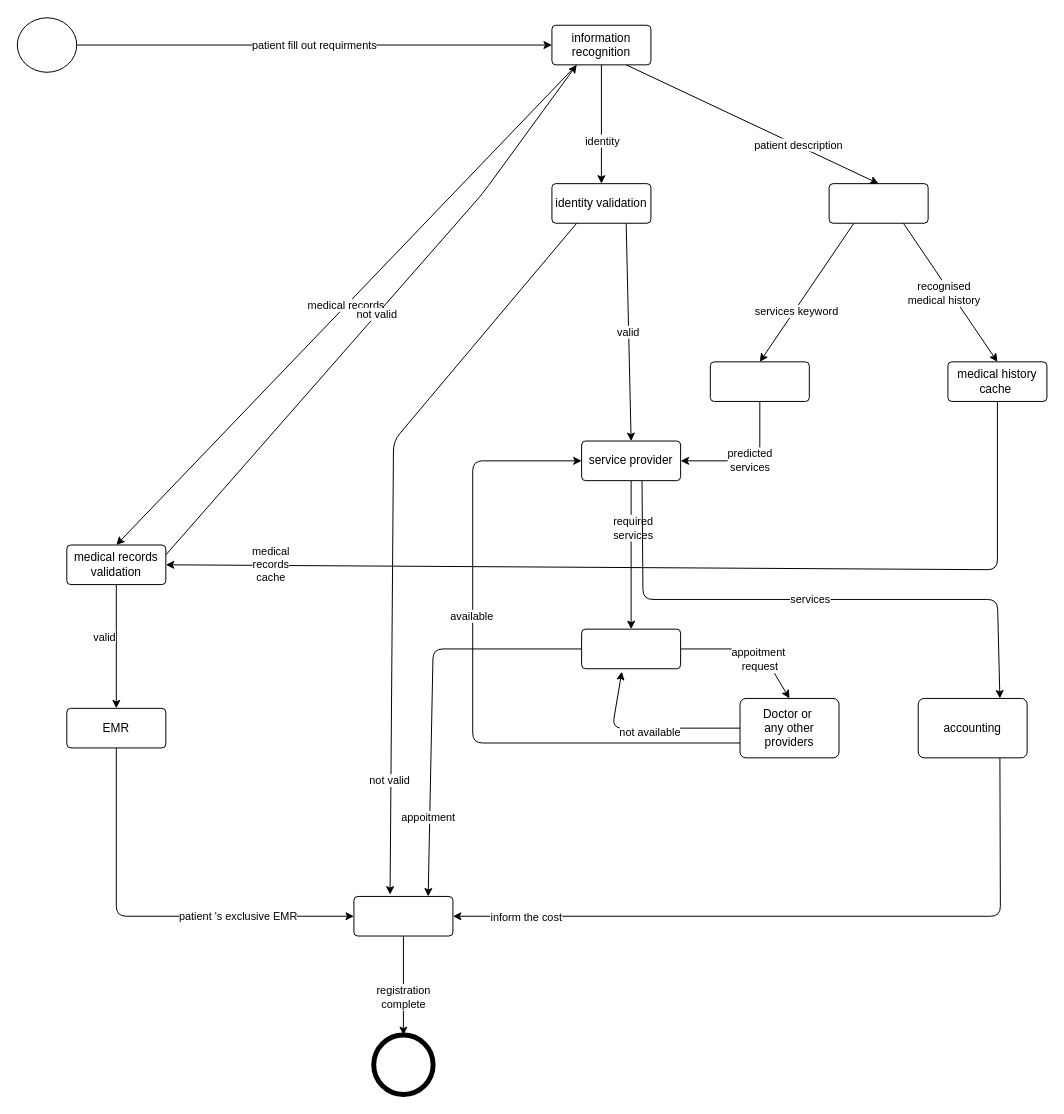
Image size: 1064x1114. Some labels were removed from this diagram. Each missing label, with the box of its shape:
appoitment handleror: (581, 628, 681, 669)
nlp recognition: (828, 183, 928, 223)
patient: (353, 895, 453, 936)
service prediction: (709, 361, 809, 401)
